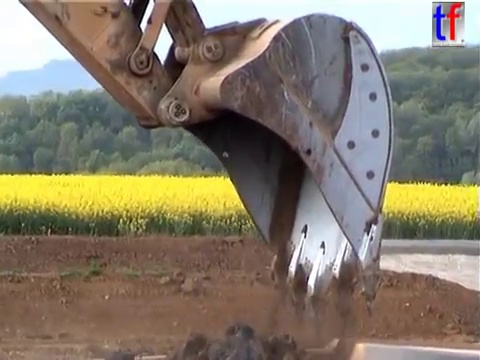excavator: (13, 1, 399, 320)
truck: (49, 332, 480, 360)
